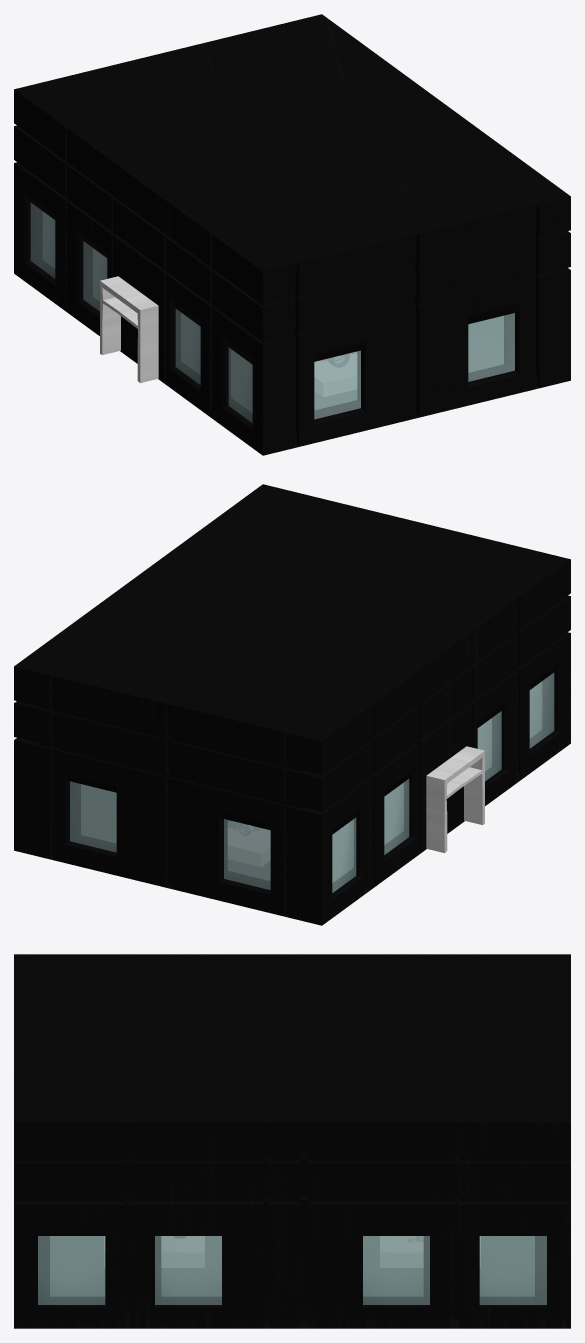
File: CarShowroom.fbx
3 views of the same model, one above another, from view 1: azimuth 30°, elevation 25°; view 2: azimuth 150°, elevation 25°; view 3: azimuth 270°, elevation 25° (orthographic). The views are drawn at different scales.
Parts seen in each view (by area): view 1: Building; view 2: Building; view 3: Building.
Boxes of the visible parts, x1,y1,x2,y2 form: Building: (14, 14, 570, 455); Building: (14, 484, 570, 925); Building: (14, 954, 570, 1328).
Bounding box in the file's own units: 5.56 × 3 × 7.35.
Materials: 24 (3 with a texture image).
